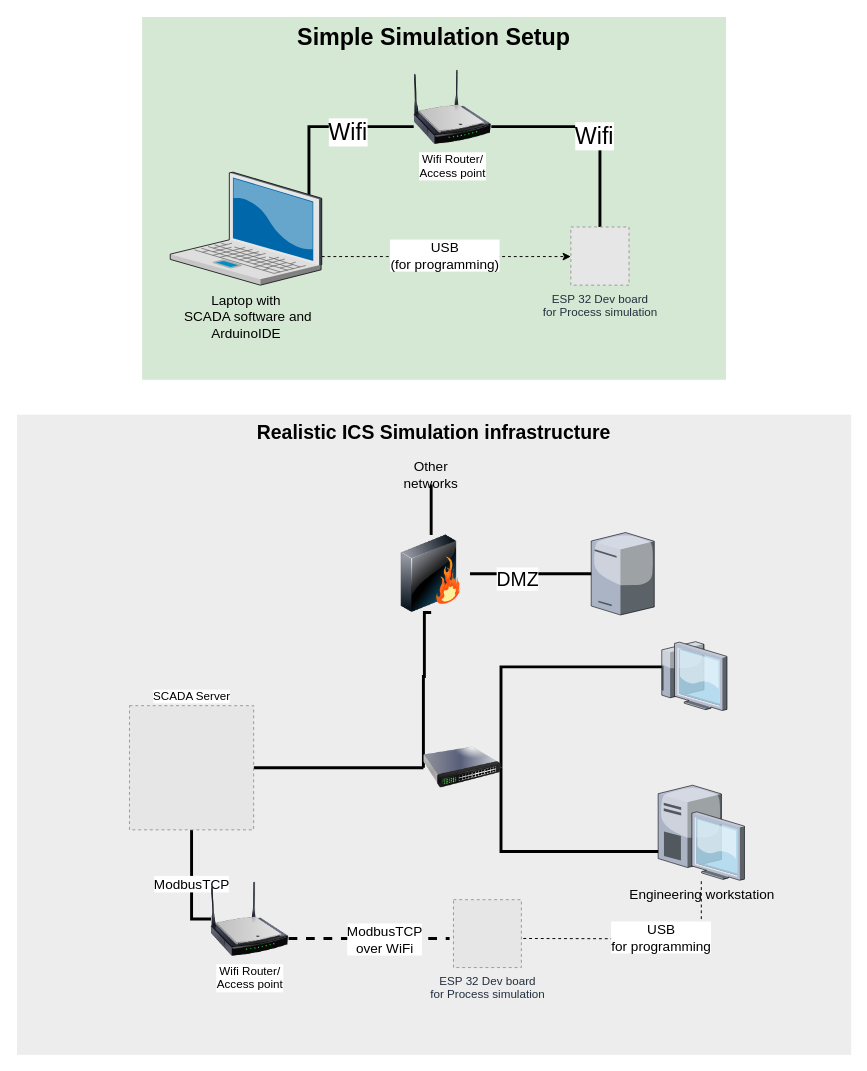
This 867x1071 diagram has some shape labels left out. Grey dashed boxes stand in for pictures. The shapes that lost their labels are listed below. From the top down, each one's centre as x and y in pixels, then its label:
At pixel 430 573: "Firewall".
At pixel 622 573: "Historian".
At pixel 692 675: "Operator workstation (HMI)".
At pixel 462 767: "switch".
